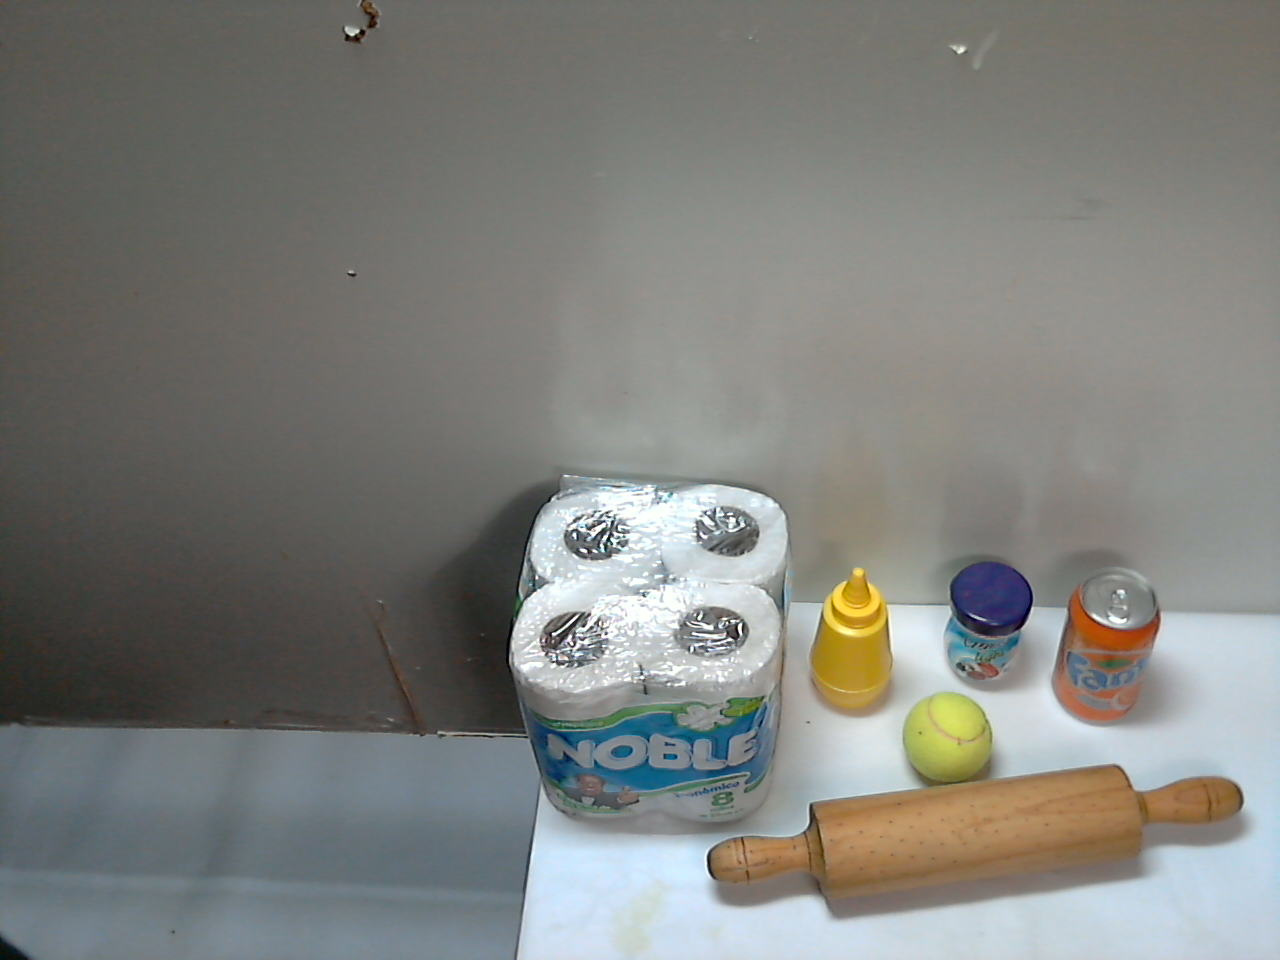cera: (703, 457, 842, 744)
colador: (805, 564, 1244, 928)
cubix: (646, 725, 767, 857)
leche: (526, 519, 689, 728)
pepino: (499, 847, 894, 941)
yogurt: (429, 573, 582, 853)
